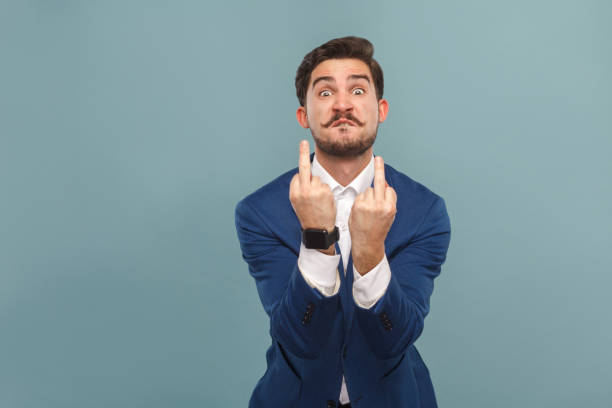insulting_gesture: (344, 158, 398, 246), (288, 139, 338, 230)
